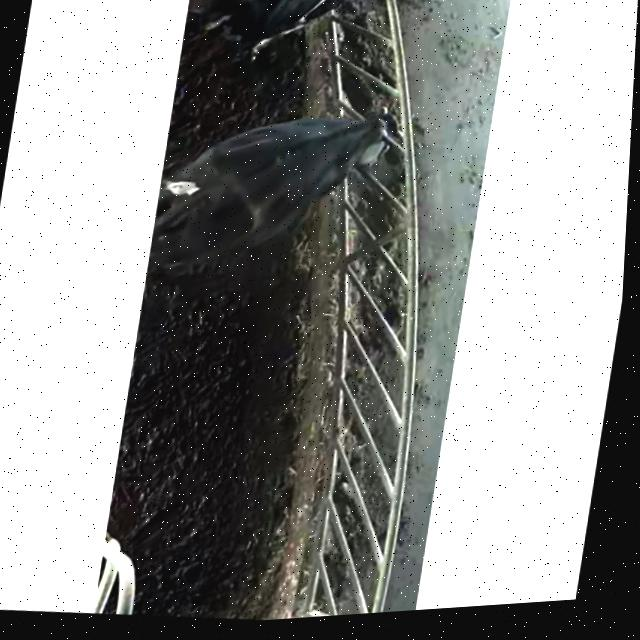eat: (286, 71, 461, 195)
